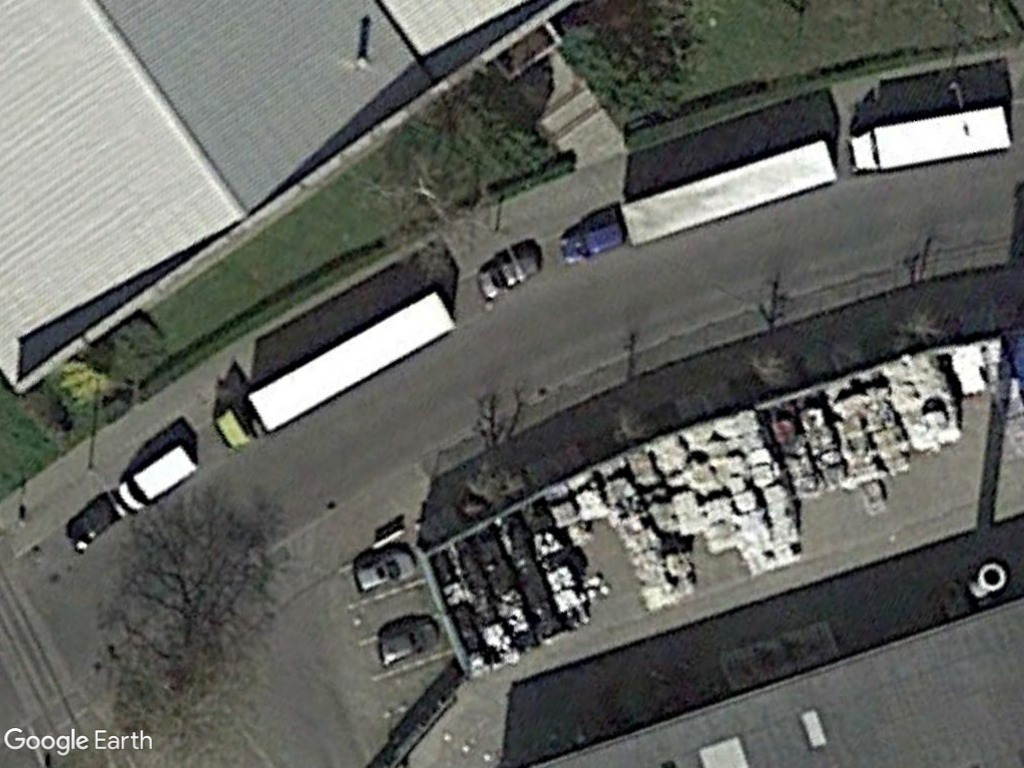car: (556, 217, 628, 267)
longvehicle: (213, 283, 455, 454), (618, 137, 834, 253)
truck: (842, 102, 1014, 178)
van: (113, 437, 201, 515)
